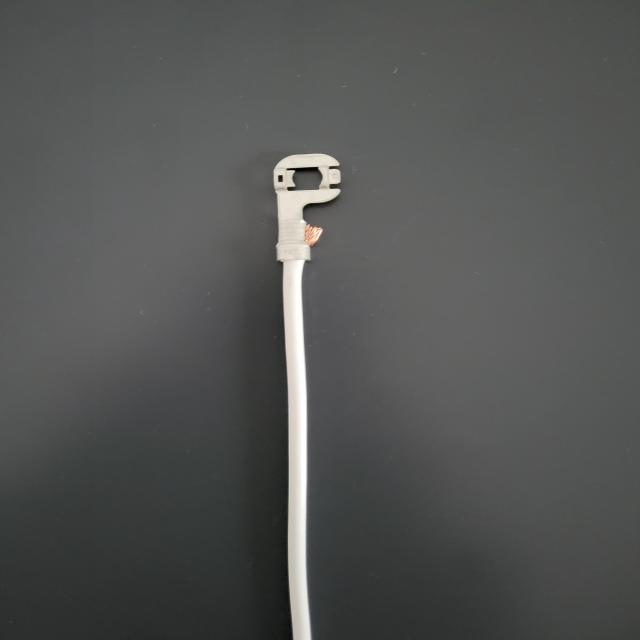defect: (213, 204, 386, 297)
